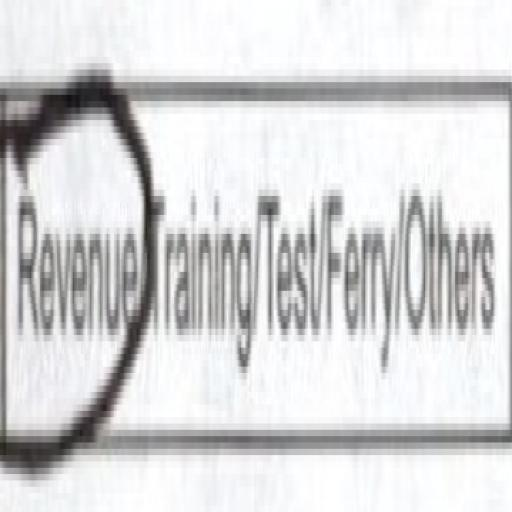check: (0, 22, 152, 477)
